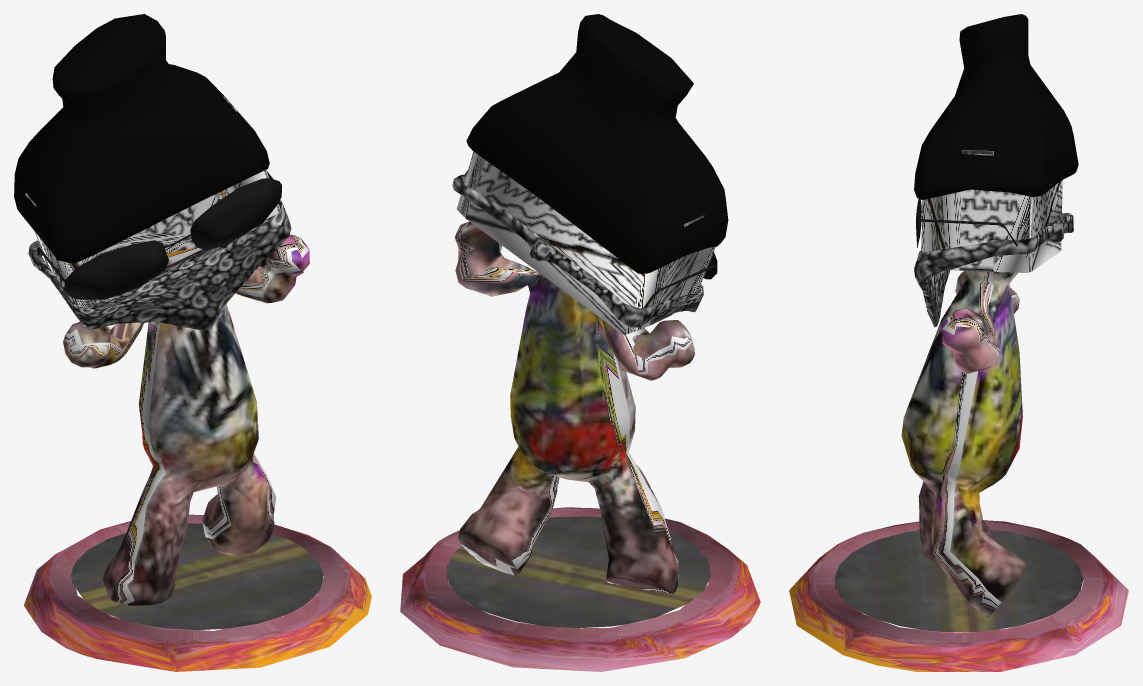
3 renders of one model, left to right at view 1: azimuth 30°, elevation 25°; view 2: azimuth 150°, elevation 25°; view 3: azimuth 270°, elevation 25°, orthographic. The views are drawn at different scales.
Bounding box in the file's own units: 1.42 × 2.64 × 1.43.
Materials: 7 (5 with a texture image).
